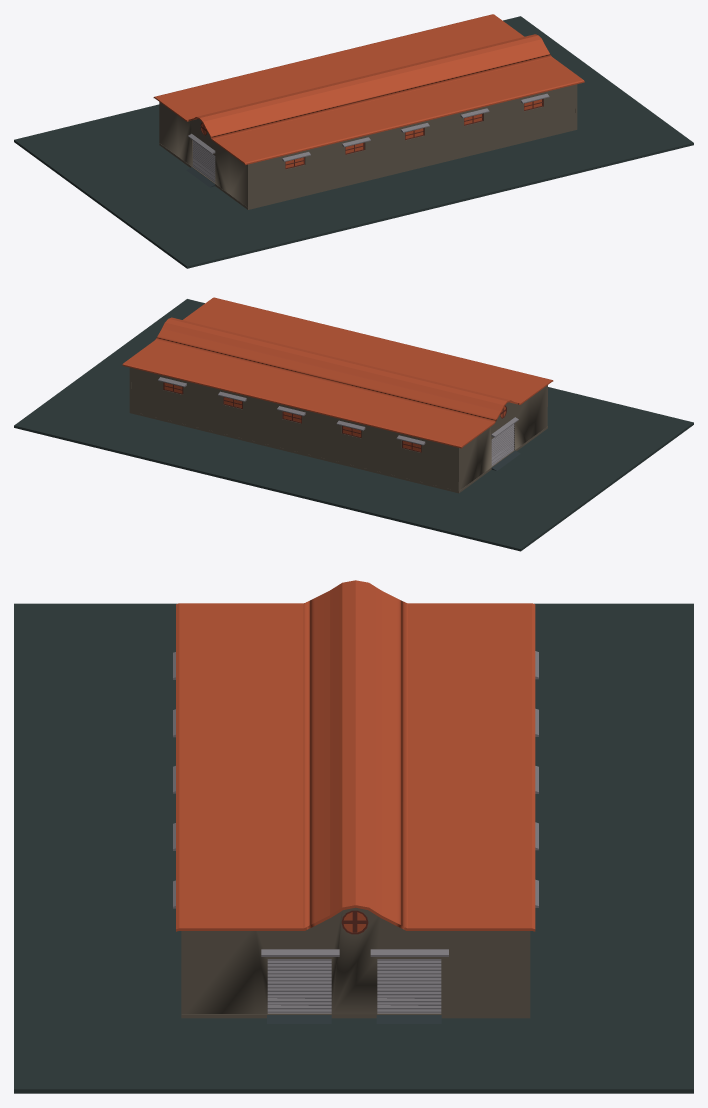
The model's file is BodegaUnida.fbx.
3 views of the same model, one above another, from view 1: azimuth 30°, elevation 25°; view 2: azimuth 150°, elevation 25°; view 3: azimuth 270°, elevation 25° (orthographic). The views are drawn at different scales.
Visible parts, largest first — view 1: BodegaUnida; view 2: BodegaUnida; view 3: BodegaUnida.
Boxes of the visible parts, x1,y1,x2,y2 form: BodegaUnida: (14,14,693,268); BodegaUnida: (14,297,693,551); BodegaUnida: (14,580,693,1093).
Bounding box in the file's own units: 25562 × 3022 × 15126.
